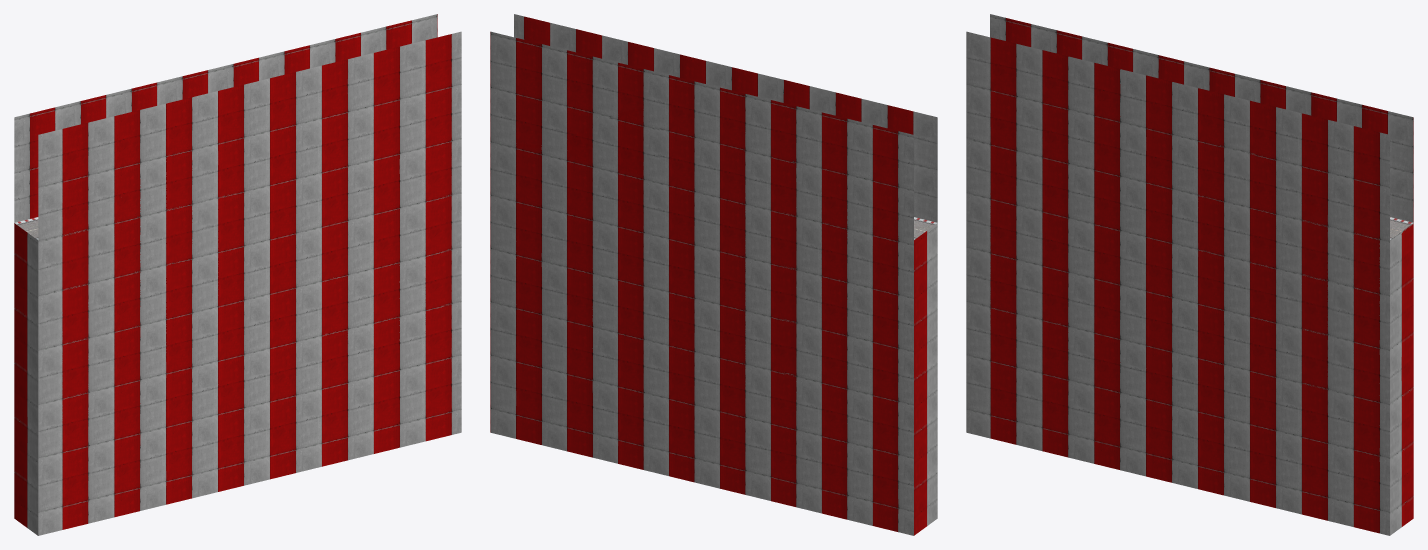
Rendered from track5.fbx.
The picture shows the model from 3 angles, left to right: view 1: azimuth 30°, elevation 25°; view 2: azimuth 150°, elevation 25°; view 3: azimuth 330°, elevation 25°; orthographic projection.
Parts seen in each view (by area): view 1: colider, polySurface3; view 2: polySurface3, colider; view 3: colider, polySurface3.
Boxes of the visible parts, x1,y1,x2,y2 form: colider: (14, 14, 461, 427); polySurface3: (14, 109, 461, 535); polySurface3: (490, 108, 937, 535); colider: (490, 14, 937, 399); colider: (966, 14, 1413, 428); polySurface3: (966, 109, 1413, 535).
Bounding box in the file's own units: 34650 × 31356 × 3393.
